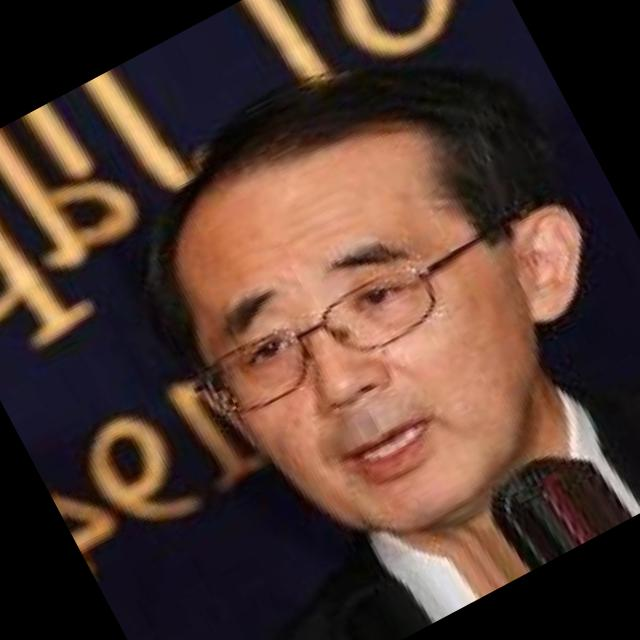bareface: (126, 58, 631, 576)
